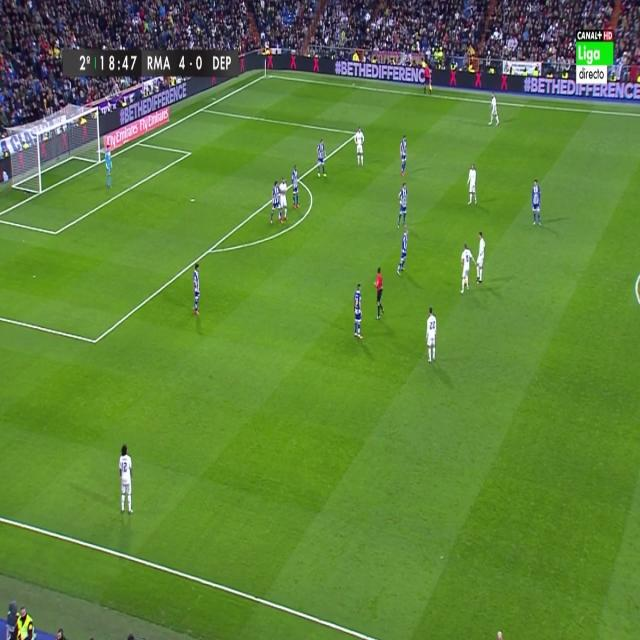Goalkeeper: (103, 144, 114, 191)
Player: (117, 443, 135, 519), (459, 244, 476, 294), (425, 304, 438, 369), (474, 227, 488, 287), (352, 280, 365, 342), (395, 181, 410, 234), (530, 173, 542, 232), (278, 176, 292, 226), (396, 230, 410, 280), (289, 162, 302, 211), (192, 261, 202, 321), (353, 125, 366, 170), (268, 179, 280, 226), (467, 161, 479, 208), (398, 134, 410, 180), (316, 135, 328, 180), (487, 92, 501, 129)
Referee: (374, 262, 386, 325), (422, 62, 434, 98)
